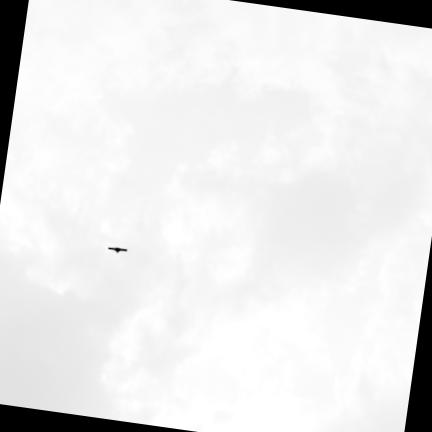Shahed: (106, 246, 128, 254)
